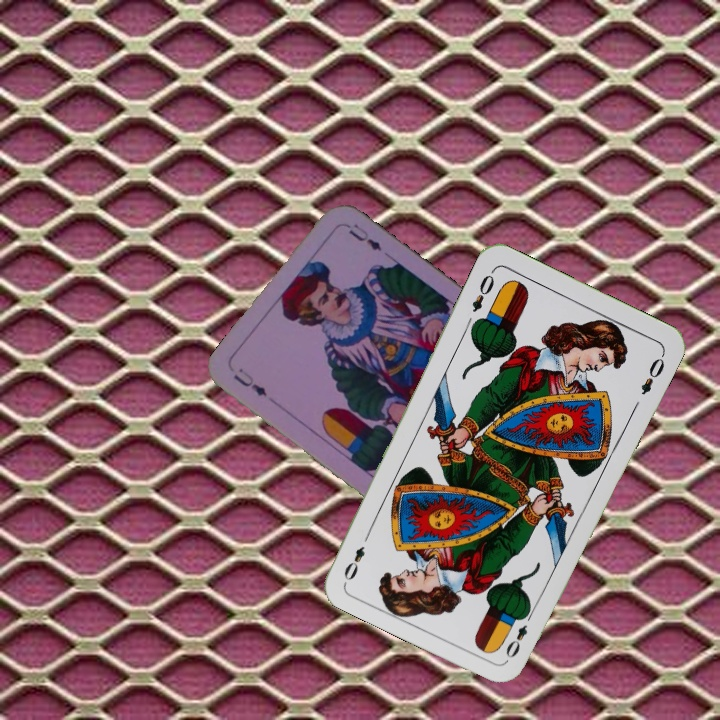EO: (501, 606, 536, 661), (468, 266, 497, 315)
EU: (229, 363, 270, 400)
